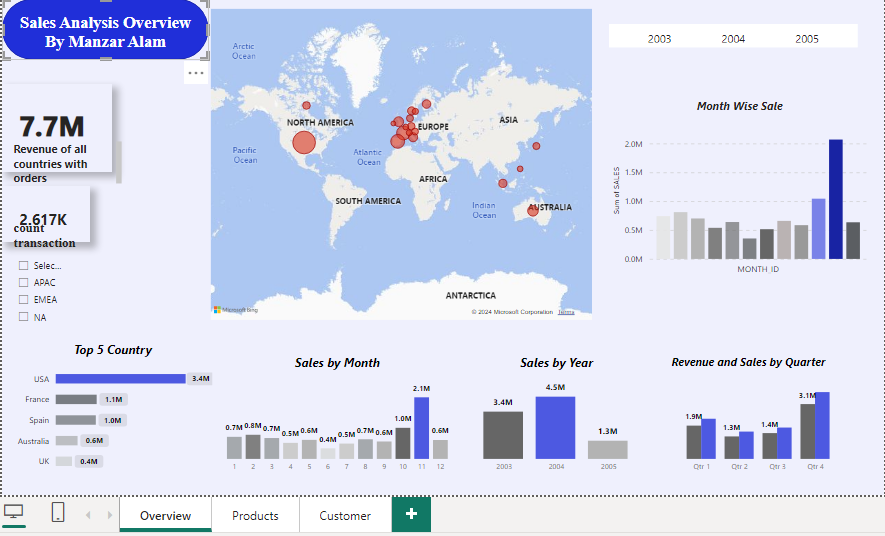

The dashboard page shown, as its layout file describes it:
{"tool":"powerbi","page":{"name":"Overview","canvas":[1280,720],"ordinal":0},"visuals":[{"type":"cardVisual","fields":{"Data":["Sales_Analysis_Project1.Revenue"]},"box":[0,124,160.2,127.5],"z":0},{"type":"columnChart","title":"Month Wise Sale  ","fields":{"Category":["Sales_Analysis_Project1.MONTH_ID"],"Y":["Sum(Sales_Analysis_Project1.SALES)"]},"box":[880.7,143,379.5,260.5],"z":1000},{"type":"map","fields":{"Category":["Sales_Analysis_Project1.COUNTRY"],"Size":["Sum(Sales_Analysis_Project1.QUANTITYORDERED)"]},"box":[297.3,8.5,563.5,461.6],"z":2000},{"type":"clusteredBarChart","title":"Top 5 Country","fields":{"Y":["Sum(Sales_Analysis_Project1.SALES)"],"Category":["Sales_Analysis_Project1.COUNTRY"]},"box":[11.3,497,298.8,199.6],"z":3000},{"type":"textbox","box":[12.1,317,132.7,70.6],"z":4000},{"type":"textbox","box":[12.1,201.6,167.1,72.4],"z":5000},{"type":"clusteredColumnChart","title":"Revenue and Sales by Quarter","fields":{"Category":["Sales_Analysis_Project1.ORDERDATE.Variation.Date Hierarchy.Quarter"],"Y":["Sales_Analysis_Project1.Revenue","Sum(Sales_Analysis_Project1.SALES)"]},"box":[967.1,515.4,263.4,181.2],"z":6000},{"type":"clusteredColumnChart","title":"Sales by Year","fields":{"Category":["Sales_Analysis_Project1.ORDERDATE.Variation.Date Hierarchy.Year"],"Y":["Sum(Sales_Analysis_Project1.SALES)"]},"box":[662.7,515.4,283.2,181.2],"z":7000},{"type":"clusteredColumnChart","title":"Sales by Month","fields":{"Category":["Sales_Analysis_Project1.MONTH_ID"],"Y":["Sum(Sales_Analysis_Project1.SALES)"]},"box":[310.1,515.4,352.6,181.2],"z":8000},{"type":"textbox","box":[232.2,348.3,128.8,39.6],"z":9000},{"type":"textbox","box":[340.1,177.3,145.9,82],"z":10000},{"type":"advancedSlicerVisual","fields":{"Values":["Sales_Analysis_Project1.ORDERDATE.Variation.Date Hierarchy.Year"]},"box":[880.7,36.8,361.1,34],"z":11000},{"type":"slicer","fields":{"Values":["Sales_Analysis_Project1.TERRITORY"]},"box":[12.1,368.7,81,130.9],"z":12000},{"type":"cardVisual","title":"orders","fields":{"Data":["CountNonNull(Sales_Analysis_Project1.ORDERNUMBER)"]},"box":[0,271.2,128.4,81.4],"z":13000},{"type":"shape","box":[0,0,299.8,87.9],"z":14000}]}

Visuals, with their boxes on the page's 1280x720 design canvas (x1, y1, x2, y2). These are canvas units, not pixel positions in the 885x536 screenshot, which may show the page scaled, cropped or inside an application window:
cardVisual - Sales_Analysis_Project1.Revenue: BBox(0, 124, 160, 252)
"Month Wise Sale  " columnChart: BBox(881, 143, 1260, 404)
map - Sales_Analysis_Project1.COUNTRY x Sum(Sales_Analysis_Project1.QUANTITYORDERED): BBox(297, 8, 861, 470)
"Top 5 Country" clusteredBarChart: BBox(11, 497, 310, 697)
textbox: BBox(12, 317, 145, 388)
textbox: BBox(12, 202, 179, 274)
"Revenue and Sales by Quarter" clusteredColumnChart: BBox(967, 515, 1230, 697)
"Sales by Year" clusteredColumnChart: BBox(663, 515, 946, 697)
"Sales by Month" clusteredColumnChart: BBox(310, 515, 663, 697)
textbox: BBox(232, 348, 361, 388)
textbox: BBox(340, 177, 486, 259)
advancedSlicerVisual - Sales_Analysis_Project1.ORDERDATE.Variation.Date Hierarchy.Year: BBox(881, 37, 1242, 71)
slicer - Sales_Analysis_Project1.TERRITORY: BBox(12, 369, 93, 500)
"orders" cardVisual: BBox(0, 271, 128, 353)
shape: BBox(0, 0, 300, 88)
